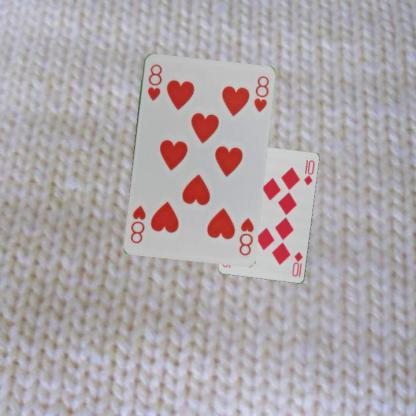10d: (289, 249, 304, 279)
8h: (236, 214, 255, 257), (144, 61, 163, 102)
